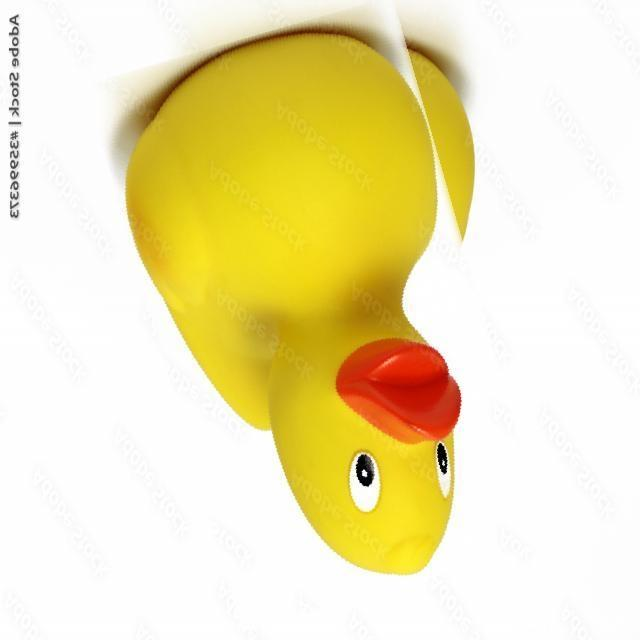rubber-duck: (126, 31, 472, 571)
